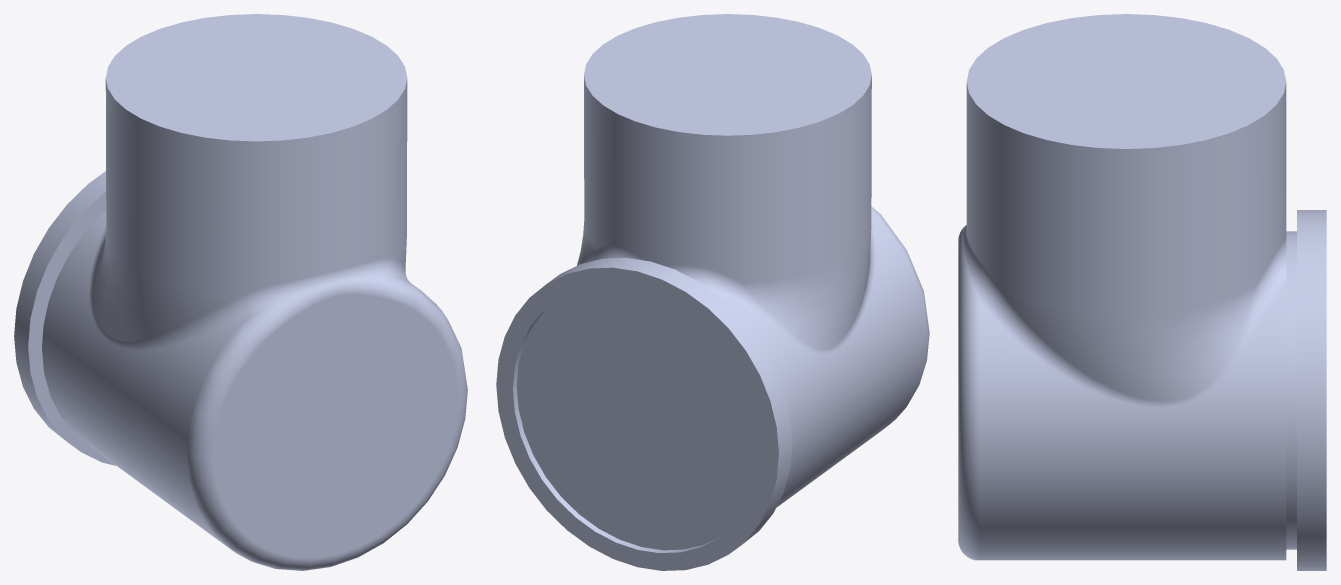
The picture shows the model from 3 angles, left to right: view 1: azimuth 30°, elevation 25°; view 2: azimuth 150°, elevation 25°; view 3: azimuth 270°, elevation 25°; orthographic projection. The views are drawn at different scales.
Visible parts, largest first — view 1: Link-6; view 2: Link-6; view 3: Link-6.
Boxes of the visible parts, <box> form: Link-6: <box>14,14,467,570</box>; Link-6: <box>496,14,929,570</box>; Link-6: <box>958,14,1326,570</box>.
Size of the model in its own units: 0.085 by 0.1225 by 0.0865.
